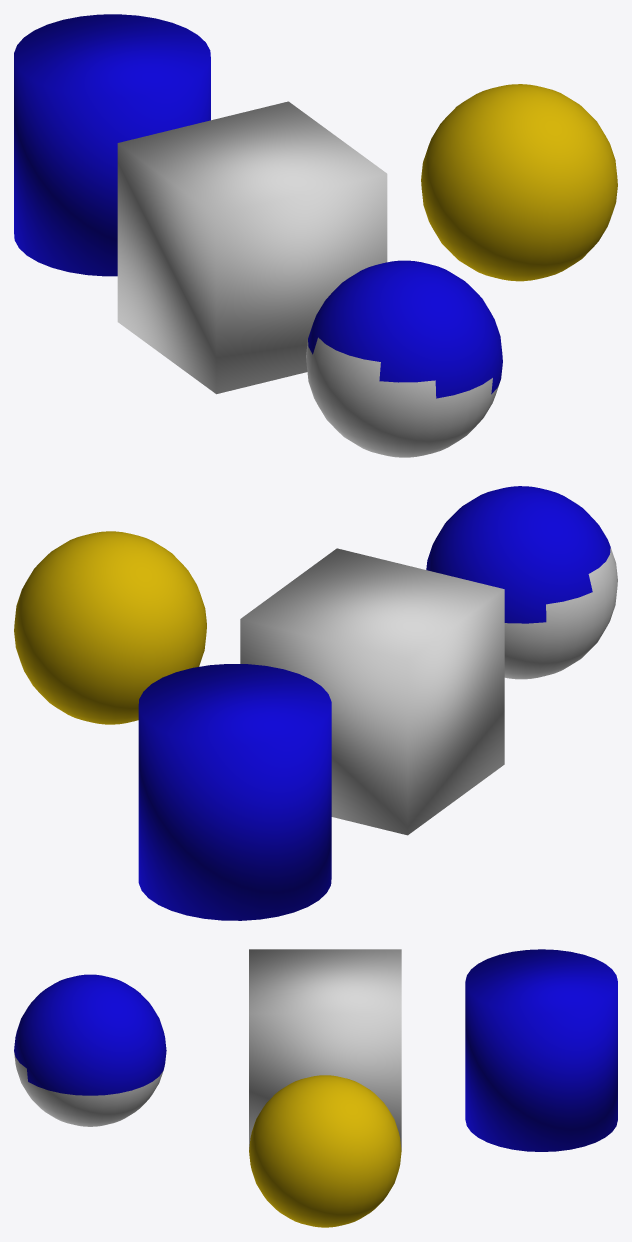
File: Multi.fbx
The picture shows the model from 3 angles, top to bottom: view 1: azimuth 30°, elevation 25°; view 2: azimuth 150°, elevation 25°; view 3: azimuth 270°, elevation 25°; orthographic projection. The views are drawn at different scales.
Visible parts, largest first — view 1: Cube; view 2: Cube; view 3: Cube.
Boxes of the visible parts, <box> form: Cube: <box>14,14,617,457</box>; Cube: <box>14,486,617,920</box>; Cube: <box>14,949,617,1227</box>.
Bounding box in the file's own units: 5.12 × 2 × 7.92.
